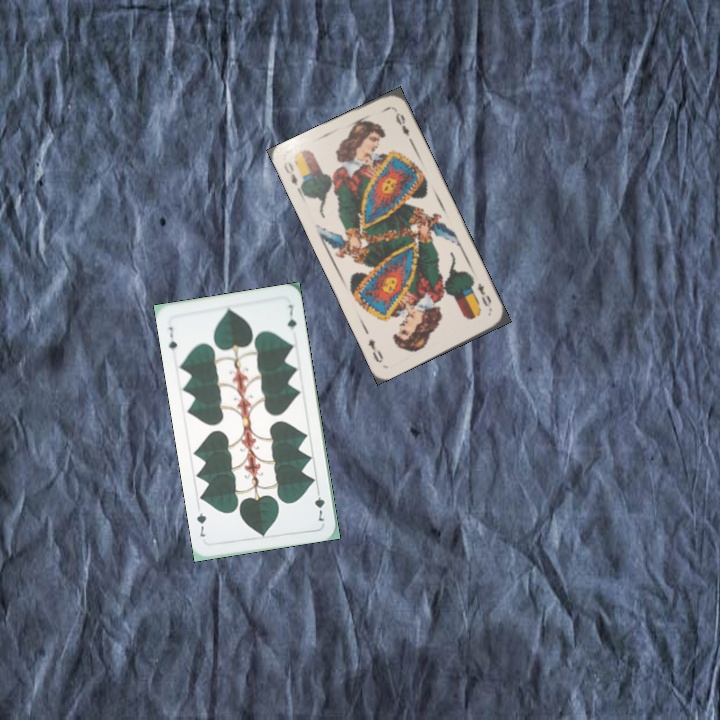EO: (279, 158, 306, 195), (473, 279, 495, 314)
G7: (311, 484, 327, 524), (164, 323, 179, 358)
